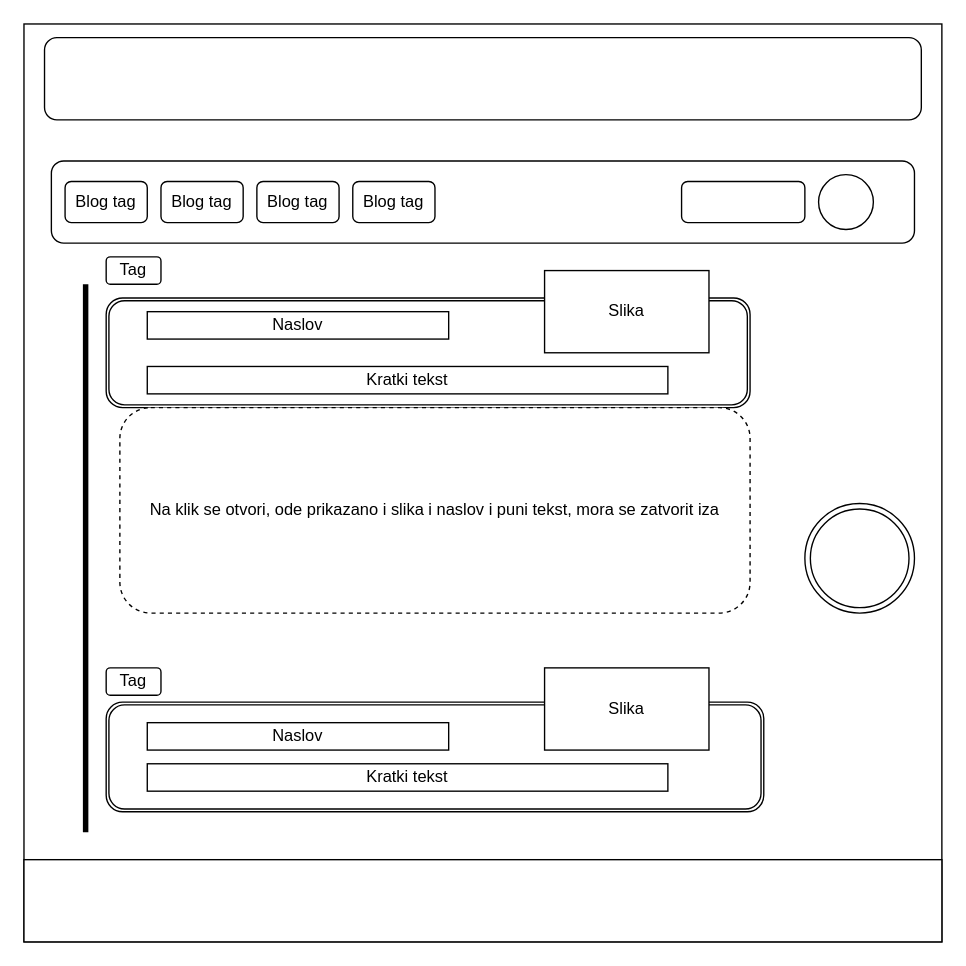
This 966x966 diagram has some shape labels left out. Here are the shapes that lost their labels. From the top down, the box of each, then its label:
(43, 36, 921, 120): Nav bar
(680, 180, 805, 223): Trazilica
(804, 502, 914, 613): Mozda bude neka luda ikona
(23, 858, 942, 942): Footer
